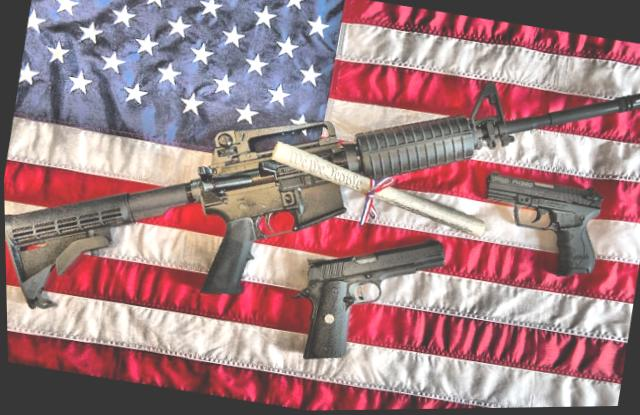pistol: (280, 215, 451, 382), (471, 164, 613, 288)
